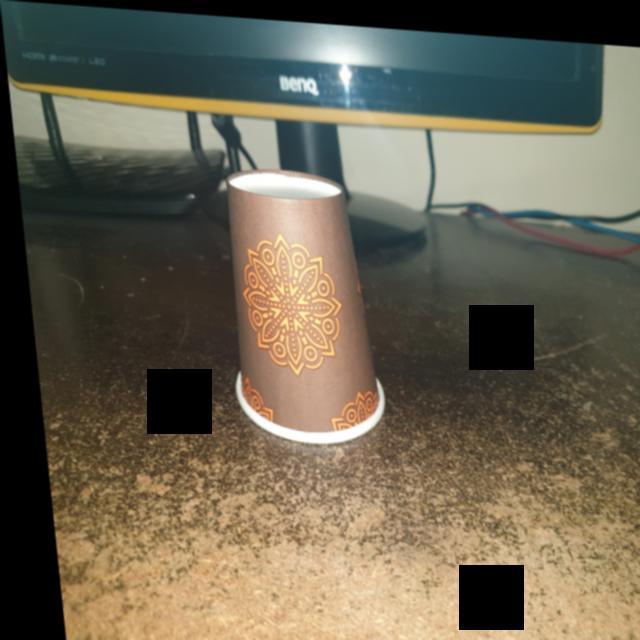cups: (201, 157, 388, 445)
